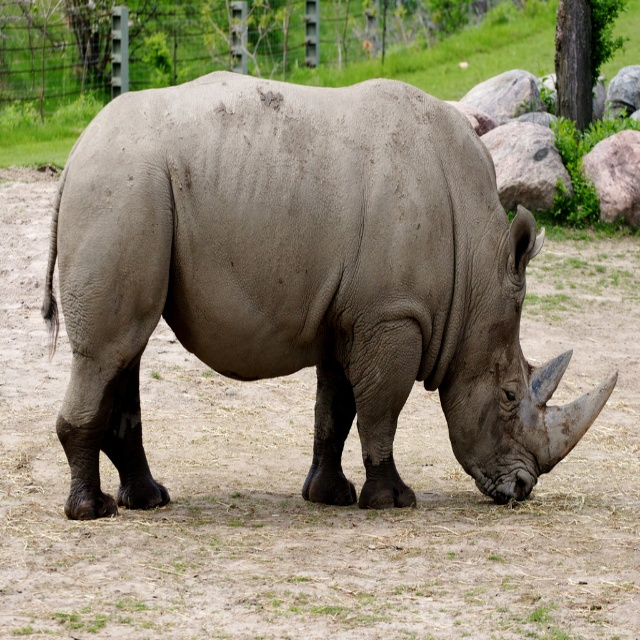Rhinoceros: (36, 66, 622, 528)
